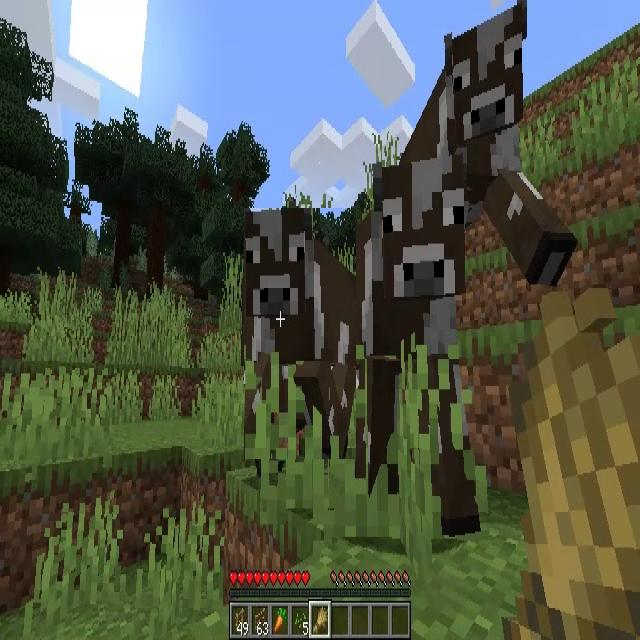cow: (403, 0, 577, 287), (357, 166, 484, 533), (244, 208, 356, 459)
